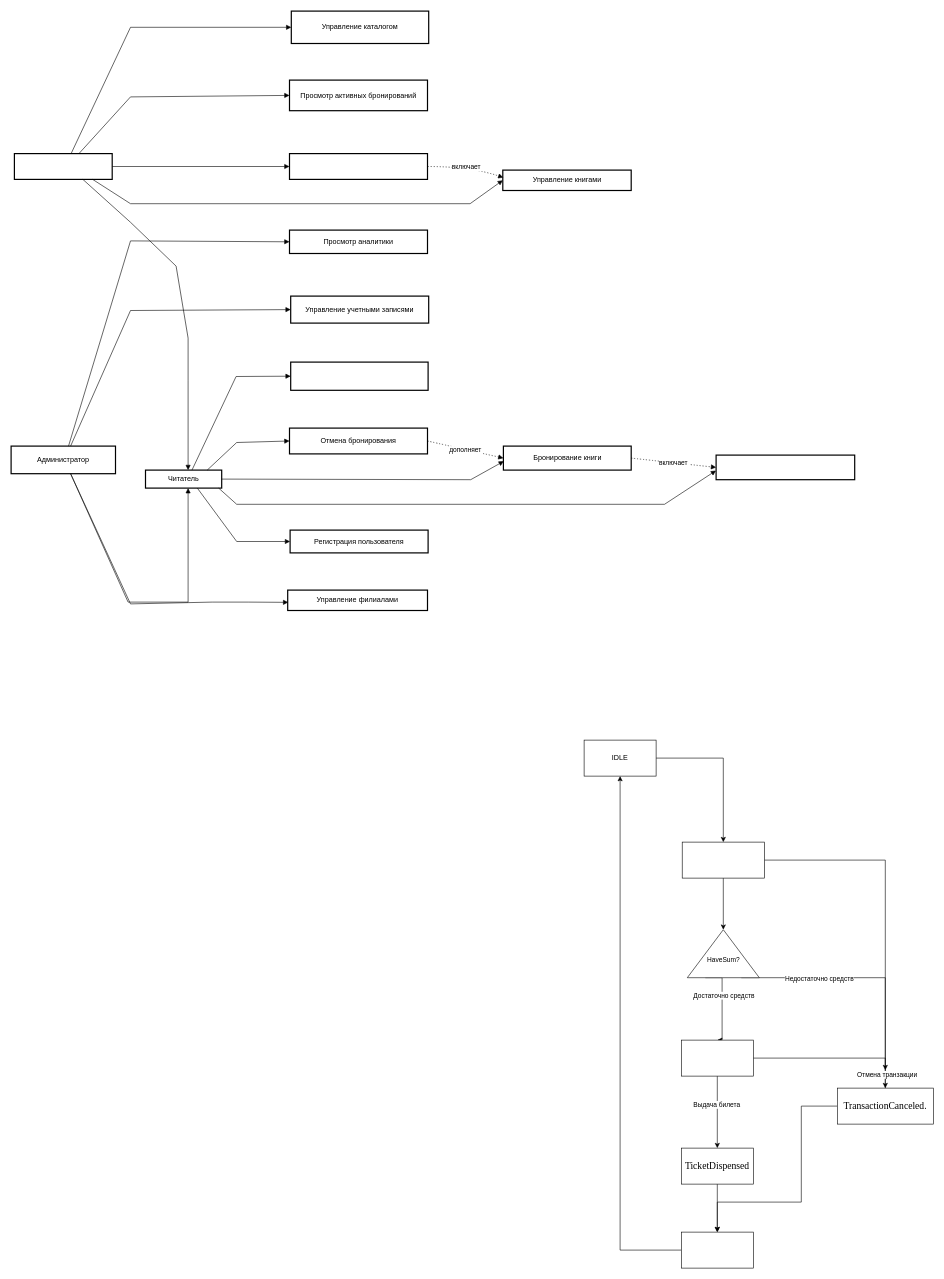
This 944x1279 diagram has some shape labels left out. The box of each missing label's shape, as (x1, y1, x2, y2) in pixels:
MoneyReceived: (681, 1040, 753, 1076)
Return to IDLE: (681, 1232, 753, 1268)
WaitingForMoney: (682, 842, 764, 878)
Библиотекарь: (14, 153, 112, 180)
Выдача/возврат книг: (289, 153, 428, 180)
История бронирований: (290, 361, 428, 391)
Просмотр и поиск книг: (715, 454, 855, 480)
